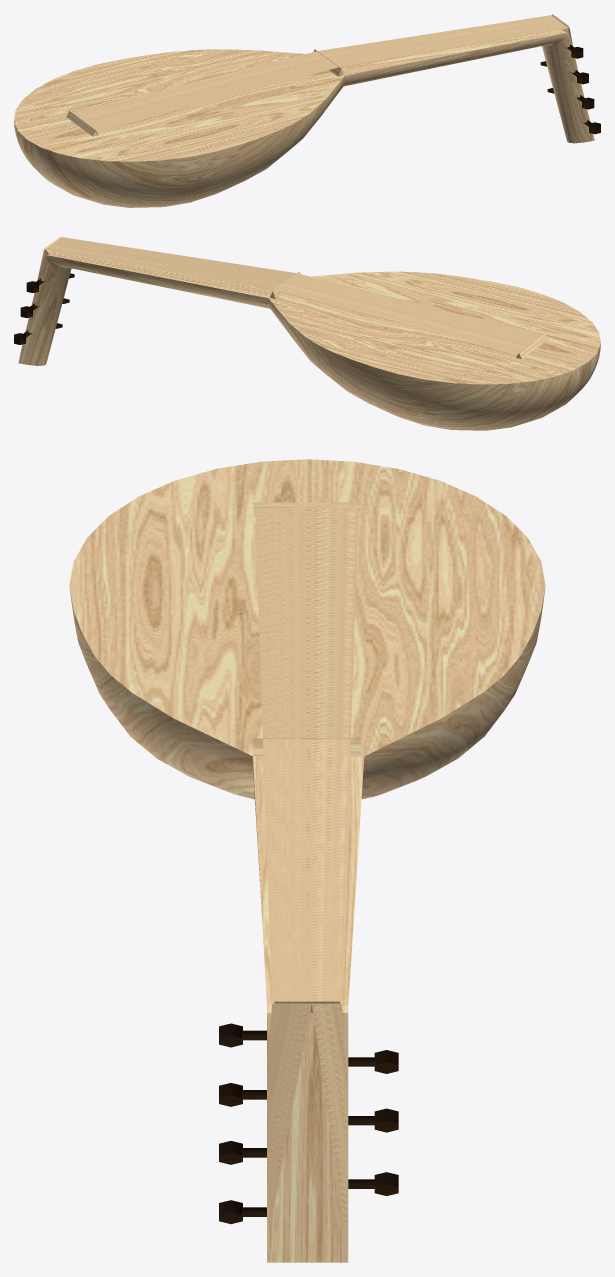
The model's file is Lute.glb.
3 renders of one model, top to bottom at view 1: azimuth 30°, elevation 25°; view 2: azimuth 150°, elevation 25°; view 3: azimuth 270°, elevation 25°, orthographic. The views are drawn at different scales.
Parts seen in each view (by area): view 1: Lute_Lute; view 2: Lute_Lute; view 3: Lute_Lute.
Boxes of the visible parts, bbox=[...] form: Lute_Lute: bbox=[14, 14, 594, 207]; Lute_Lute: bbox=[18, 236, 600, 430]; Lute_Lute: bbox=[69, 459, 545, 1262].
Size of the model in its own units: 0.8 by 0.1945 by 0.2959.
Materials: 2 (2 with a texture image).
